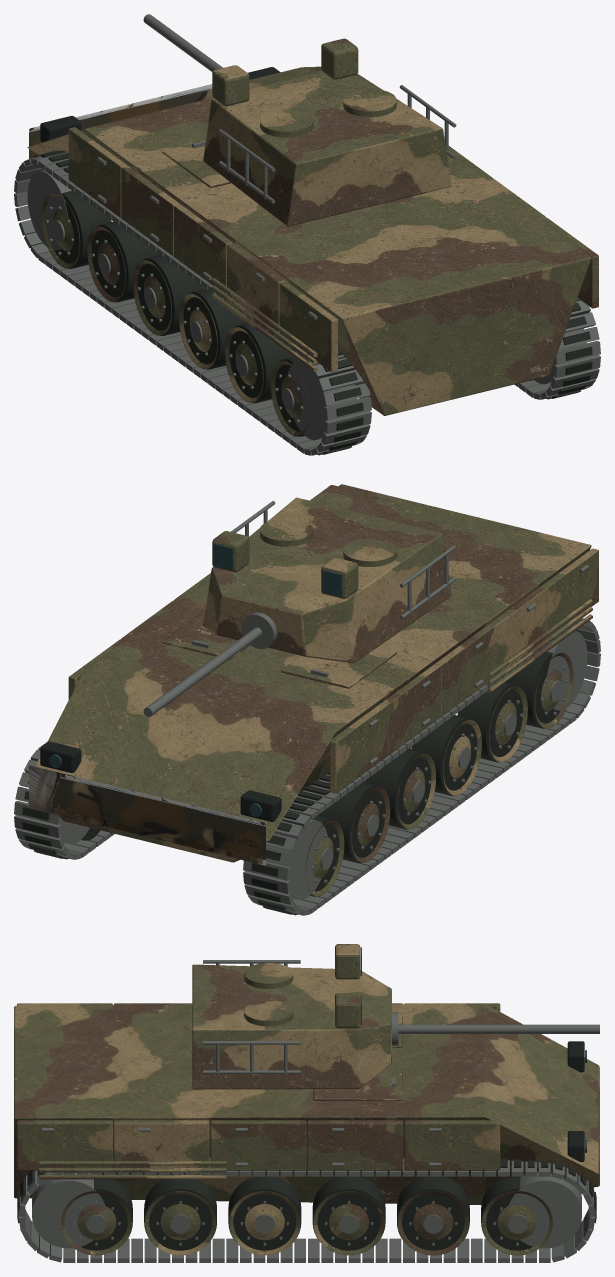
File: k21-gpt-blender.glb
The picture shows the model from 3 angles, top to bottom: view 1: azimuth 30°, elevation 25°; view 2: azimuth 150°, elevation 25°; view 3: azimuth 270°, elevation 25°; orthographic projection. The views are drawn at different scales.
Parts seen in each view (by area): view 1: Hull_Authored Korean camouflage, Turret_Authored Korean camouflage, Track_-1_Exposed steel, Track_-1_Rubber, Track_-1_Authored Korean camouflage, Track_1_Exposed steel, Hull_K21 photo trim vane photo material, Turret_Exposed steel, Track_1_Rubber, Gun_Exposed steel, Hull_Recess; view 2: Hull_Authored Korean camouflage, Turret_Authored Korean camouflage, Track_-1_Exposed steel, Track_-1_Rubber, Hull_K21 photo trim vane photo material, Track_-1_Authored Korean camouflage, Track_1_Exposed steel, Gun_Exposed steel, Hull_Recess, Turret_Exposed steel, Track_1_Rubber, Turret_Optical glass (+1 smaller); view 3: Hull_Authored Korean camouflage, Turret_Authored Korean camouflage, Track_1_Exposed steel, Track_1_Rubber, Track_1_Authored Korean camouflage, Gun_Exposed steel, Turret_Exposed steel, Hull_Recess, Hull_Exposed steel.
Part boxes in pixels (x1,y1,x2,y2): Hull_Authored Korean camouflage: [27, 97, 598, 415]; Turret_Authored Korean camouflage: [203, 38, 451, 226]; Track_-1_Exposed steel: [14, 152, 371, 455]; Track_-1_Rubber: [34, 150, 363, 455]; Track_-1_Authored Korean camouflage: [41, 192, 309, 436]; Track_1_Exposed steel: [514, 298, 600, 399]; Hull_K21 photo trim vane photo material: [29, 84, 212, 158]; Turret_Exposed steel: [218, 85, 456, 203]; Track_1_Rubber: [531, 302, 592, 399]; Gun_Exposed steel: [143, 14, 222, 72]; Hull_Recess: [40, 67, 280, 147]; Hull_Authored Korean camouflage: [27, 484, 598, 862]; Turret_Authored Korean camouflage: [203, 497, 451, 663]; Track_-1_Exposed steel: [243, 618, 600, 915]; Track_-1_Rubber: [251, 652, 559, 915]; Hull_K21 photo trim vane photo material: [29, 765, 265, 865]; Track_-1_Authored Korean camouflage: [305, 652, 573, 896]; Track_1_Exposed steel: [14, 741, 114, 859]; Gun_Exposed steel: [143, 612, 277, 716]; Hull_Recess: [40, 741, 281, 821]; Turret_Exposed steel: [231, 501, 456, 619]; Track_1_Rubber: [22, 783, 100, 859]; Turret_Optical glass: [213, 543, 342, 596]; Hull_Authored Korean camouflage: [14, 1003, 599, 1204]; Turret_Authored Korean camouflage: [192, 944, 391, 1089]; Track_1_Exposed steel: [18, 1157, 595, 1262]; Track_1_Rubber: [17, 1156, 596, 1250]; Track_1_Authored Korean camouflage: [60, 1191, 553, 1255]; Gun_Exposed steel: [392, 1012, 599, 1046]; Turret_Exposed steel: [203, 960, 300, 1075]; Hull_Recess: [567, 1041, 584, 1161]; Hull_Exposed steel: [42, 1077, 441, 1166].
Bounding box in the file's own units: 3.49 × 2.99 × 6.91.
Materials: 6 (2 with a texture image).
